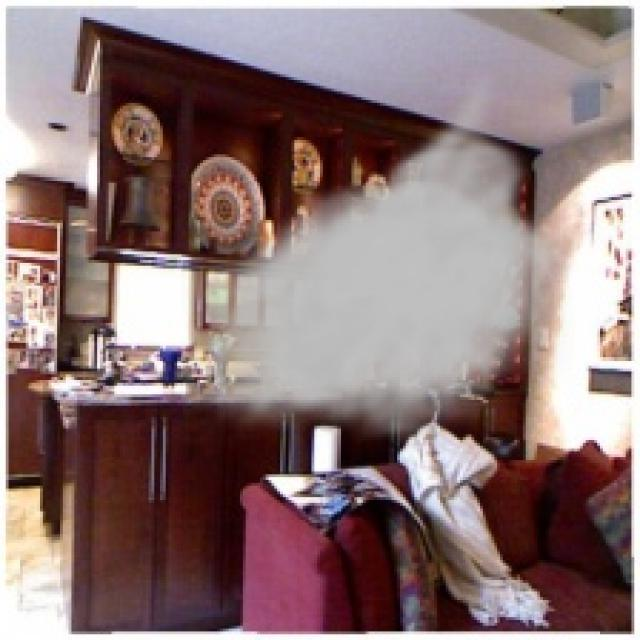Smoke: (180, 63, 574, 446)
